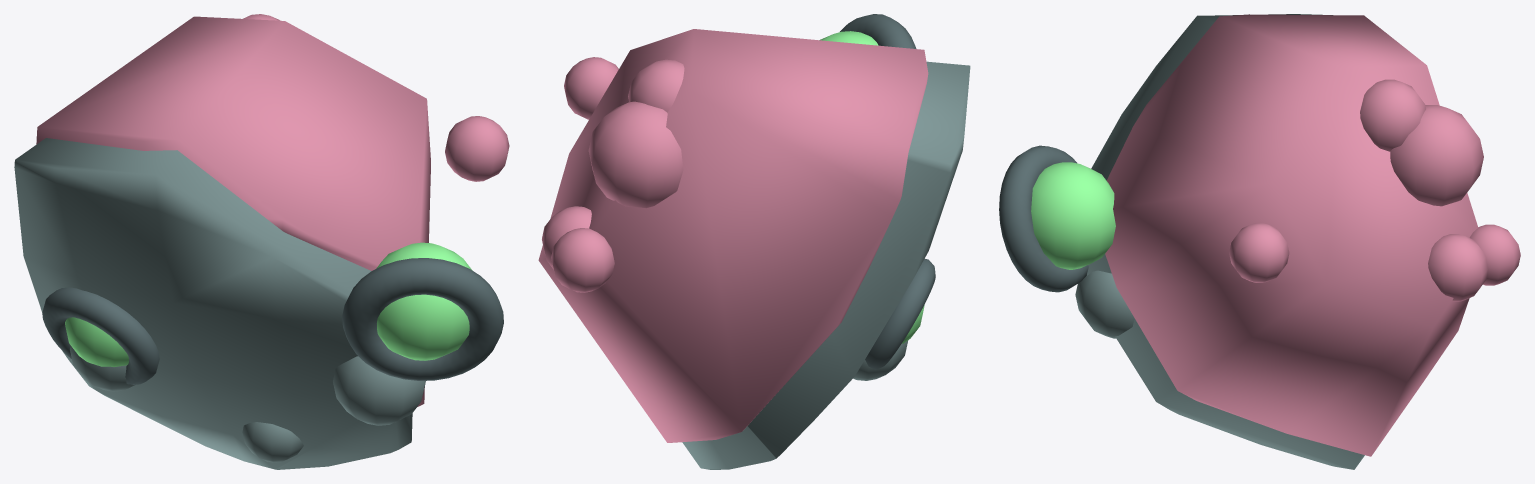
File: chunk13.glb
The picture shows the model from 3 angles, left to right: view 1: azimuth 30°, elevation 25°; view 2: azimuth 150°, elevation 25°; view 3: azimuth 270°, elevation 25°; orthographic projection. The views are drawn at different scales.
Parts seen in each view (by area): view 1: skin, flesh, lip, glow; view 2: flesh, skin, lip, glow; view 3: flesh, skin, glow, lip.
Part boxes in pixels (x1,y1,x2,y2): skin: (14,138,425,469); flesh: (36,14,509,406); lip: (42,258,503,384); glow: (65,242,472,366); flesh: (538,29,928,442); skin: (682,61,970,469); lip: (840,14,935,369); glow: (819,31,924,343); flesh: (1105,14,1520,456); skin: (1075,14,1364,469); glow: (1031,162,1115,269); lip: (999,145,1088,292).
Size of the model in its own units: 0.9035 by 0.8709 by 1.01.
